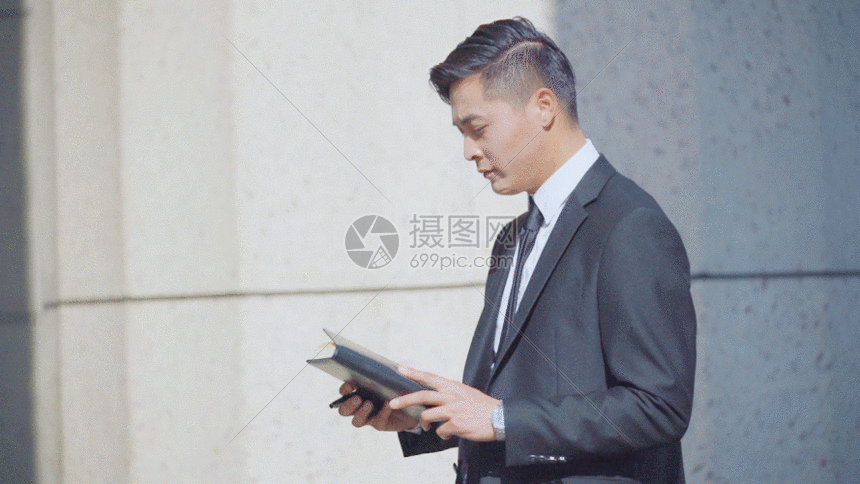book: (292, 321, 512, 457)
